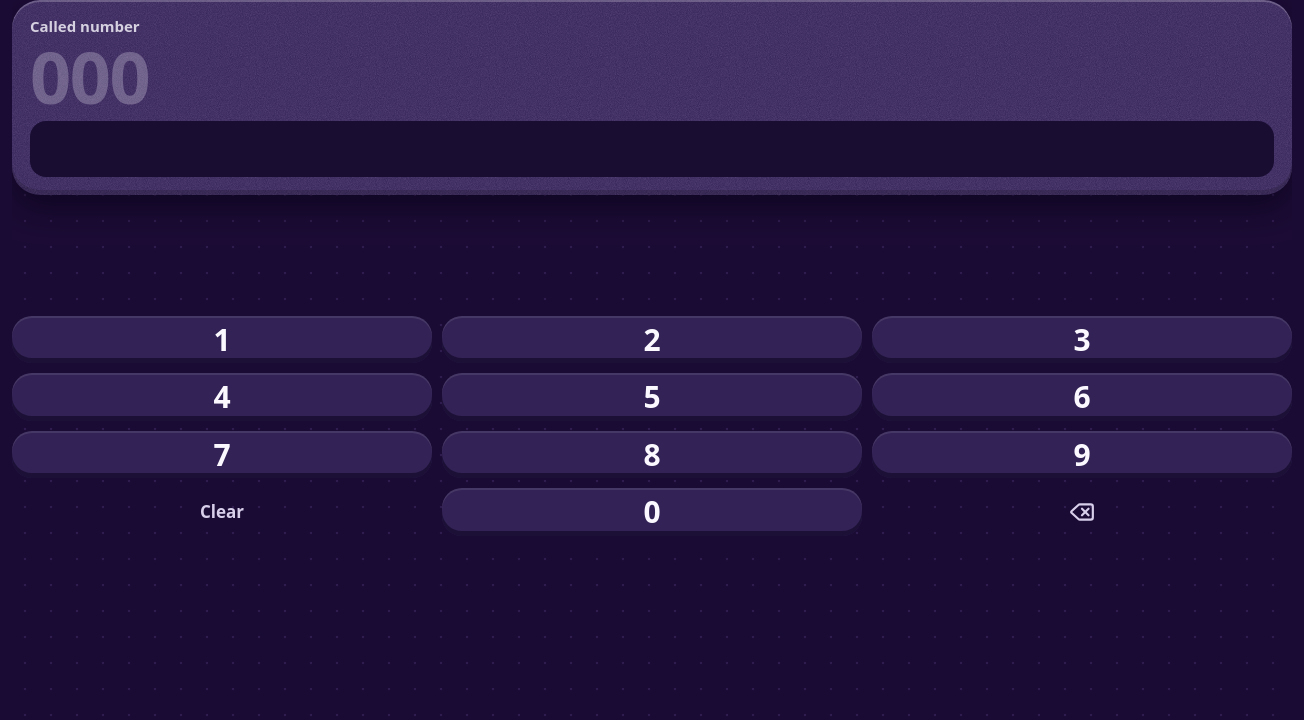
CheckPad › re-checks a number from the log
This screenshot has width=1304, height=720.
Click the button "3" at point(1082, 340), box [872,316,1292,363]
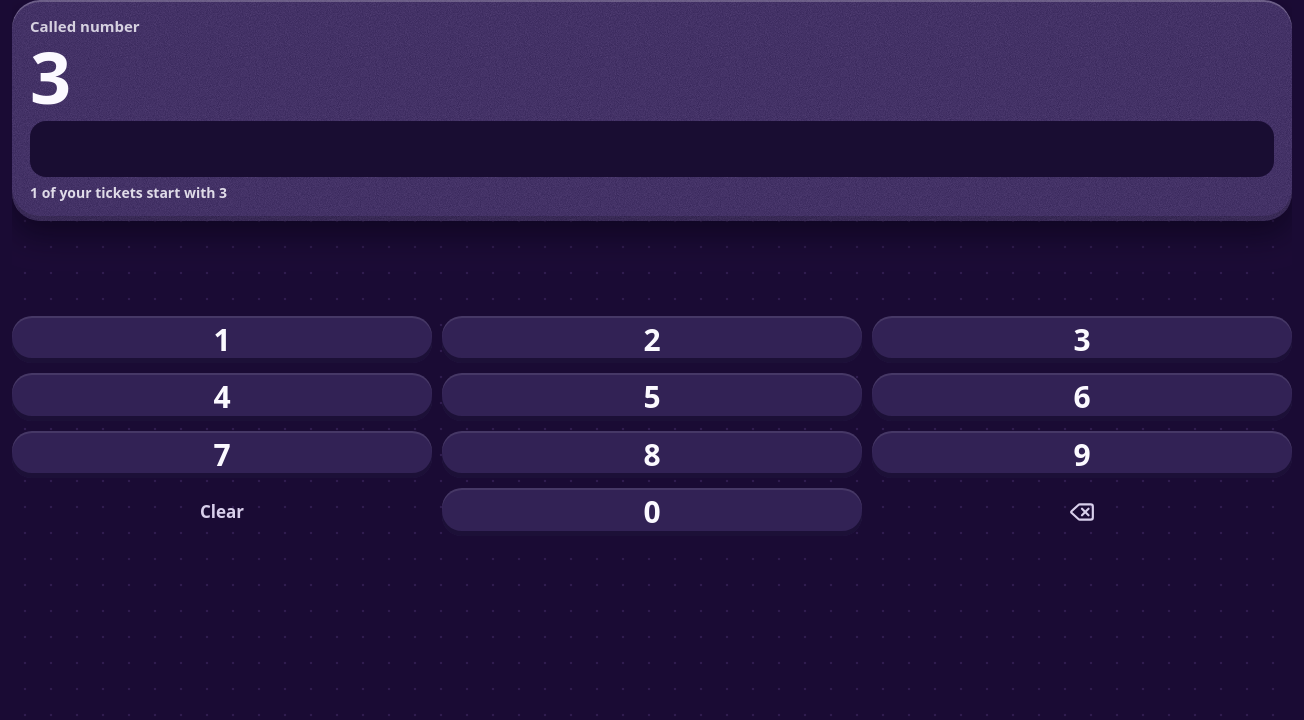
Click the button "6" at point(1082, 397), box [872,374,1292,421]
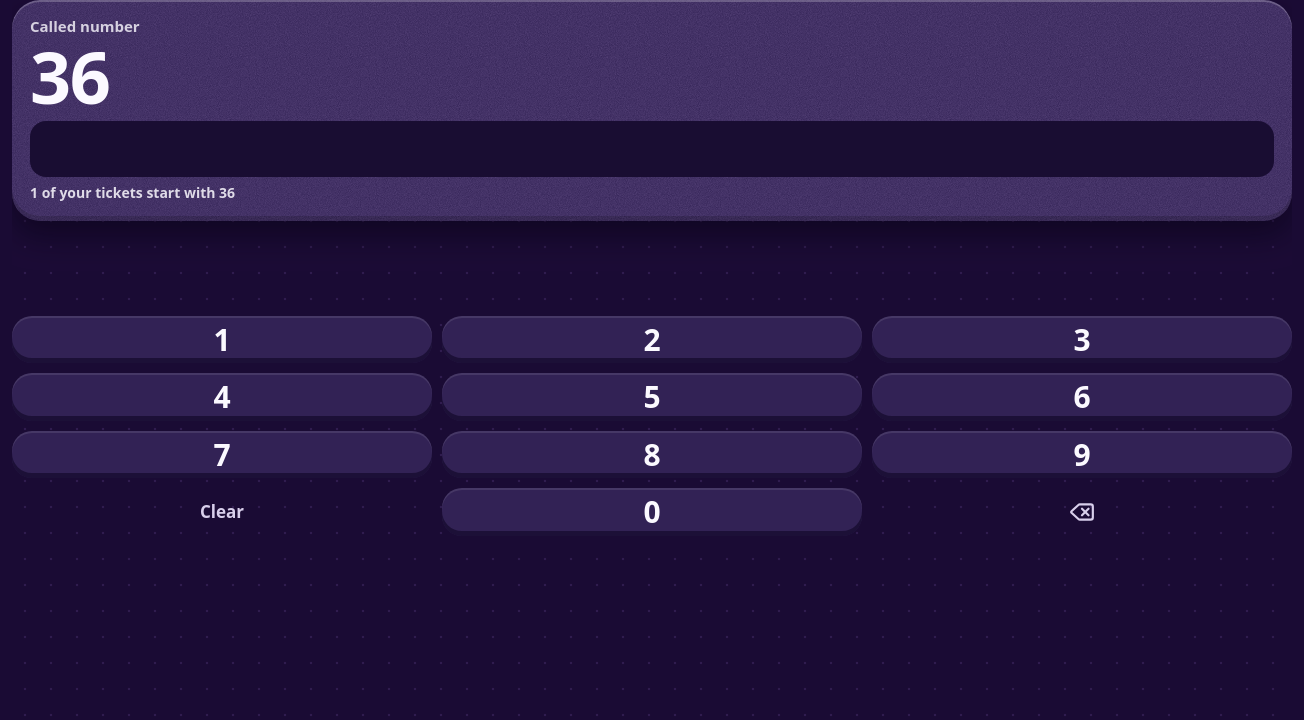
Click the button "1" at point(222, 340), box [12,316,432,363]
Wait 1300 ms
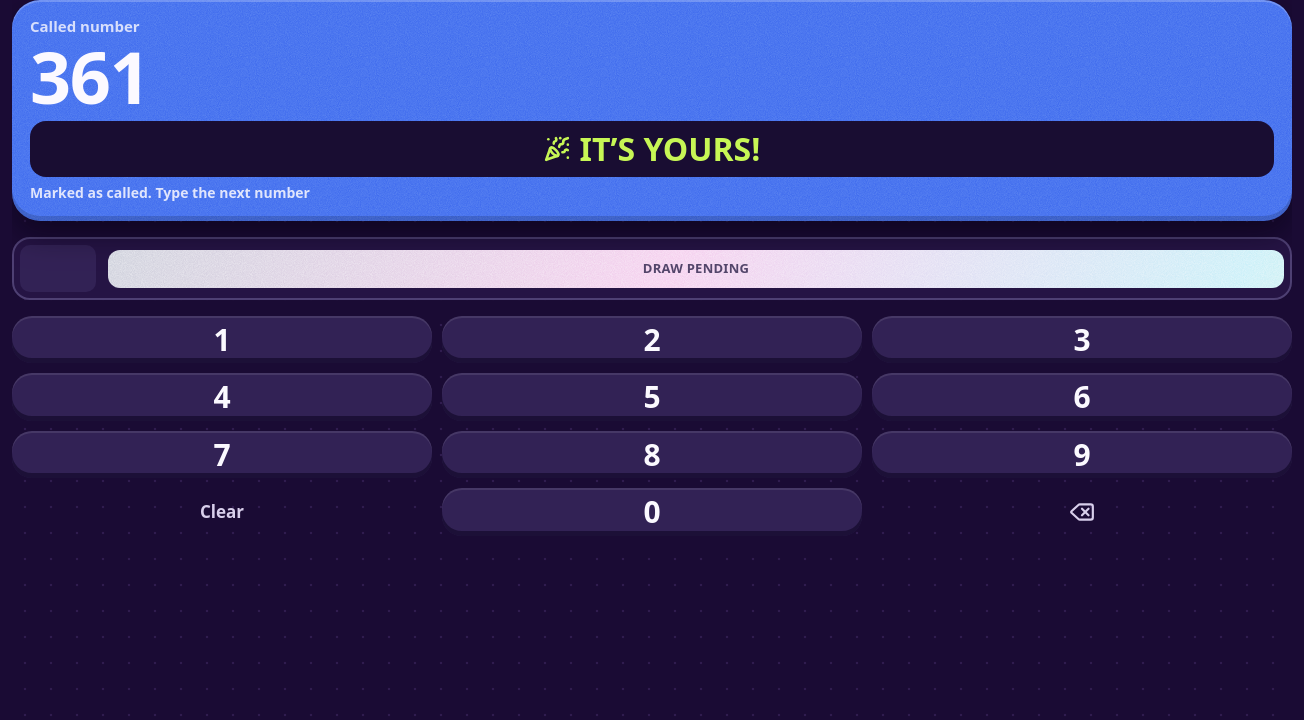
Click the button "Clear" at point(222, 512), box [12,488,432,536]
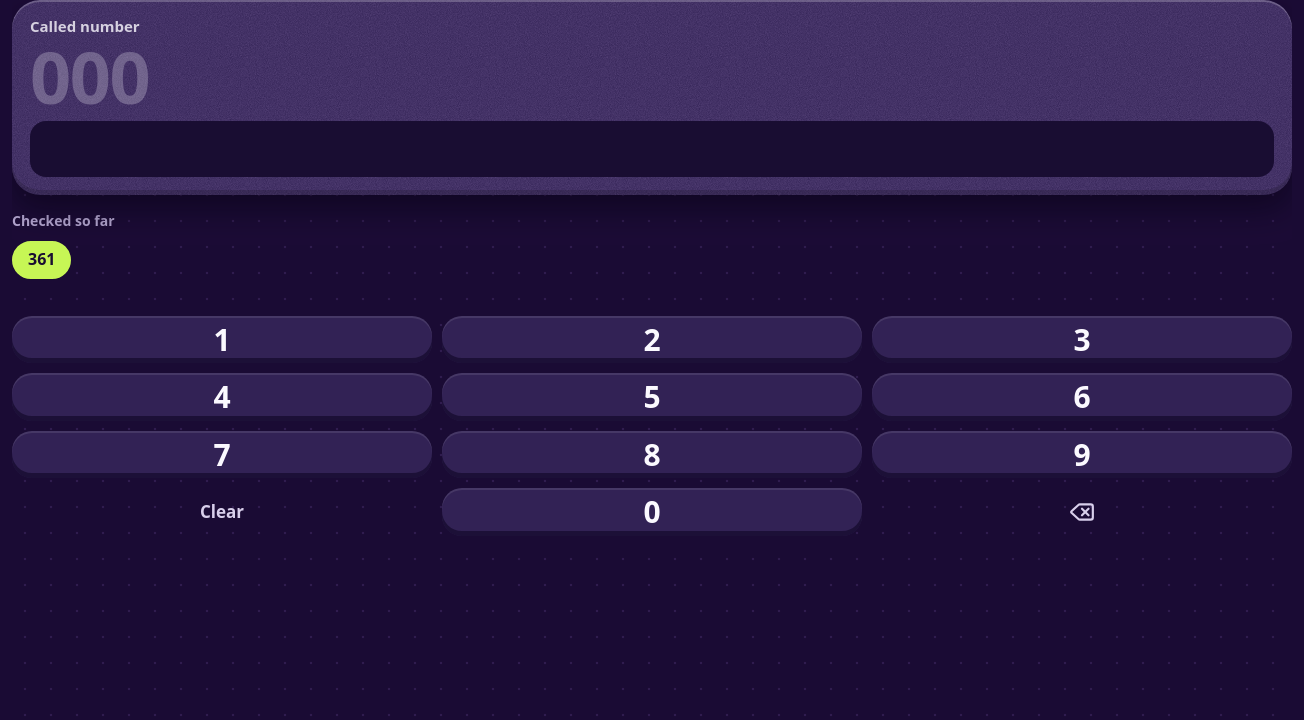
Click the button named "361, yours" at point(42, 260), box [12,241,72,279]
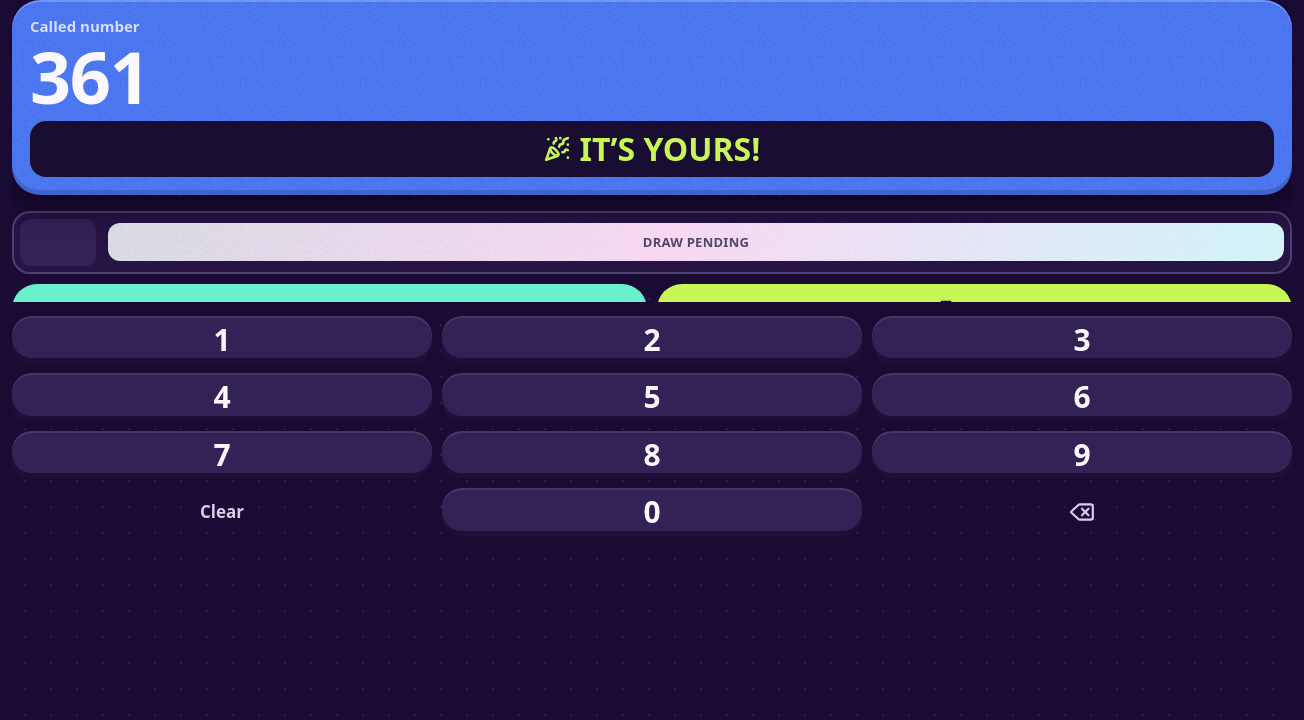
Expected: the text "361" is shown, [30,27,149,125]
Click the button "2" at point(652, 340), box [442,316,862,363]
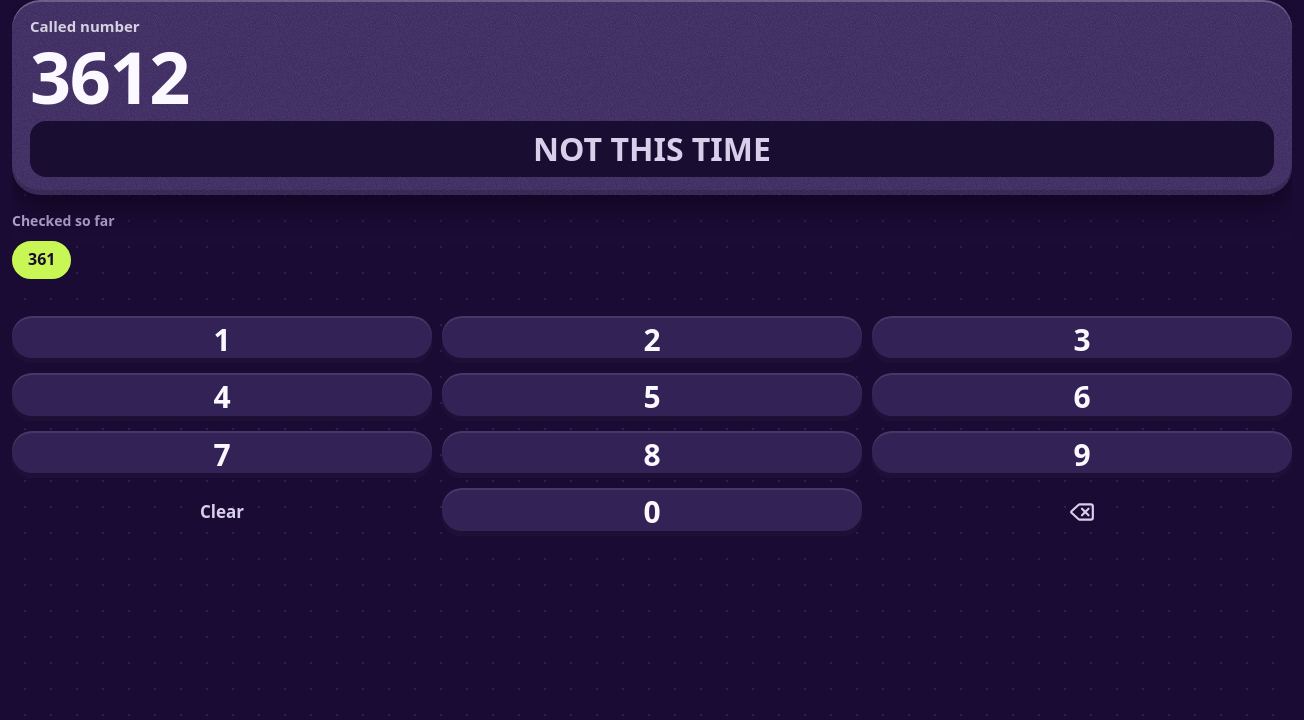
Expected: the text "3612" is shown, [30,27,189,125]
